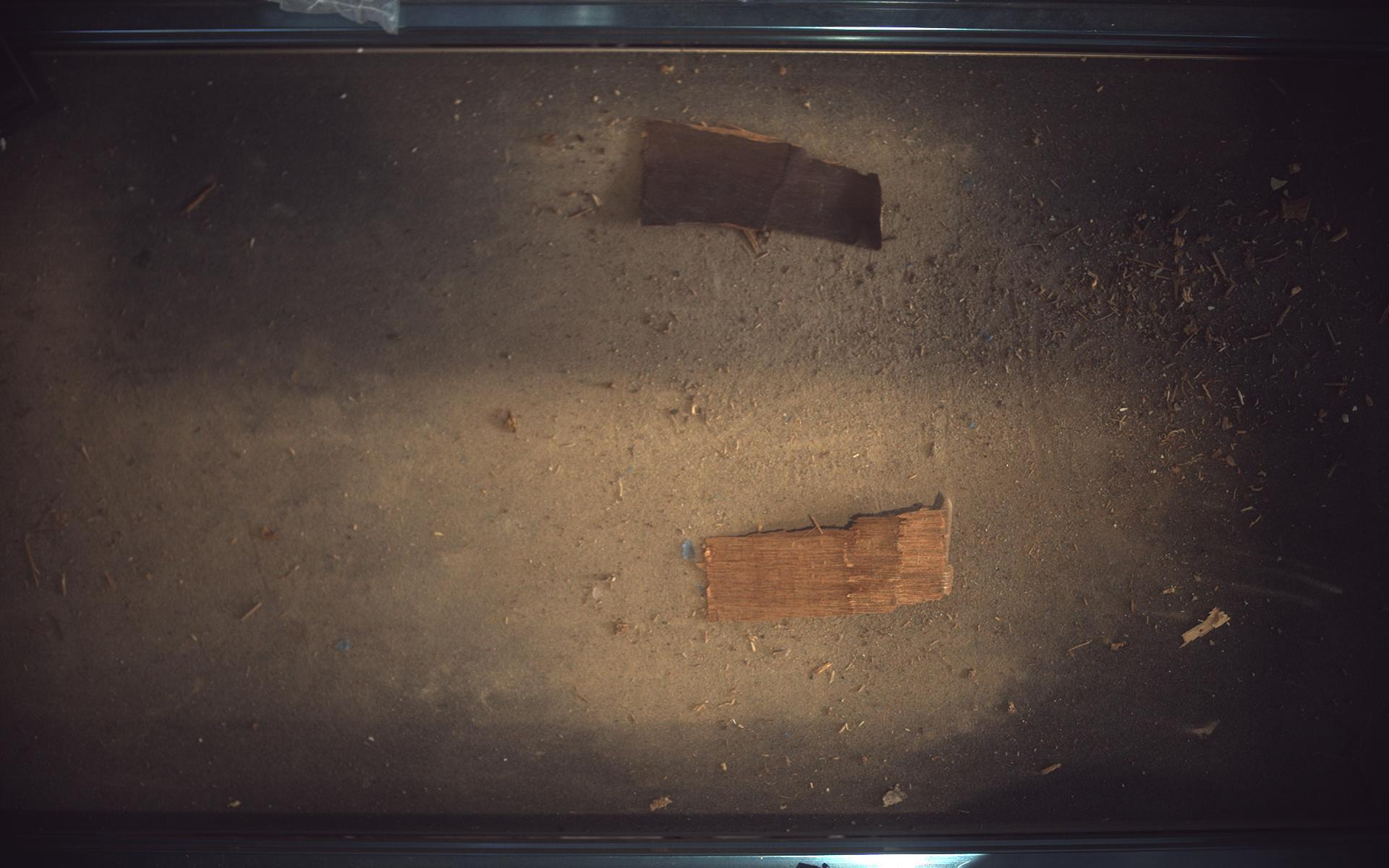wood: (704, 493, 955, 621), (642, 119, 883, 249)
